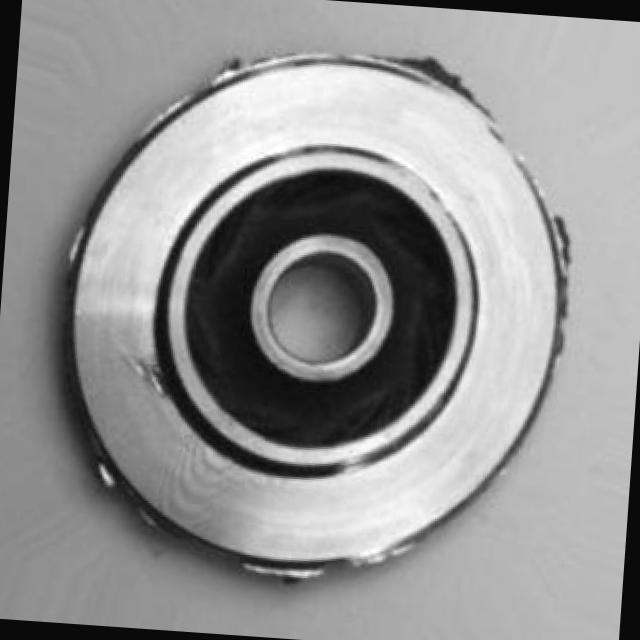Defect: (400, 46, 470, 100)
